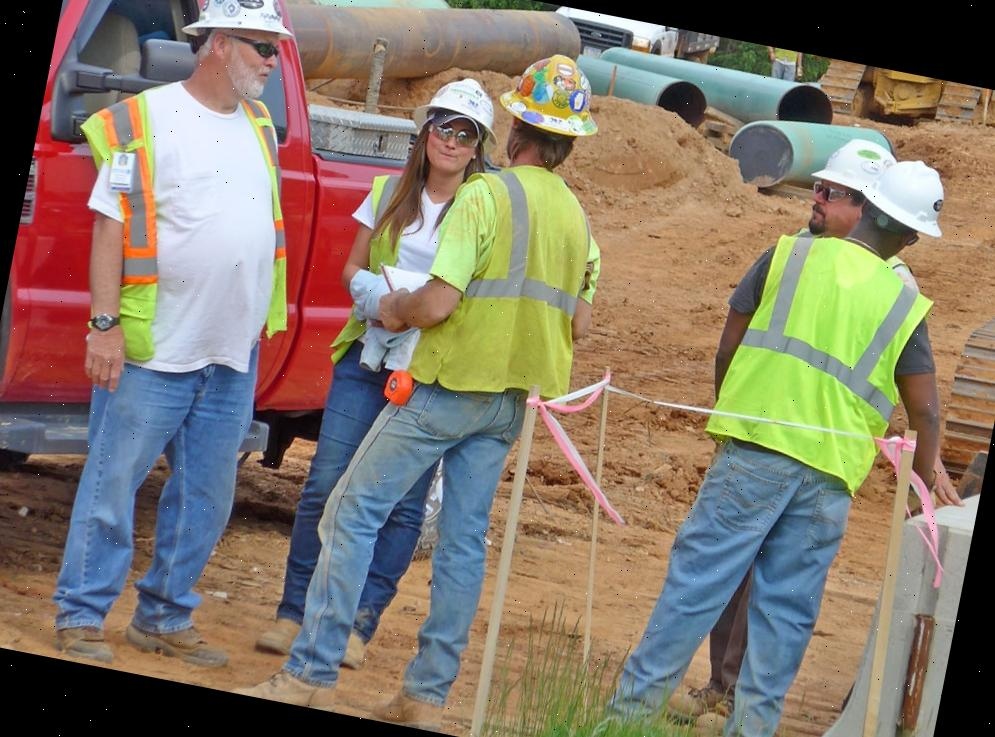helmet: (495, 45, 613, 142), (857, 152, 956, 242), (171, 0, 303, 60), (411, 68, 505, 150), (805, 128, 897, 204)
wear: (79, 80, 314, 375), (720, 232, 923, 492), (410, 161, 602, 414), (320, 170, 466, 380)
